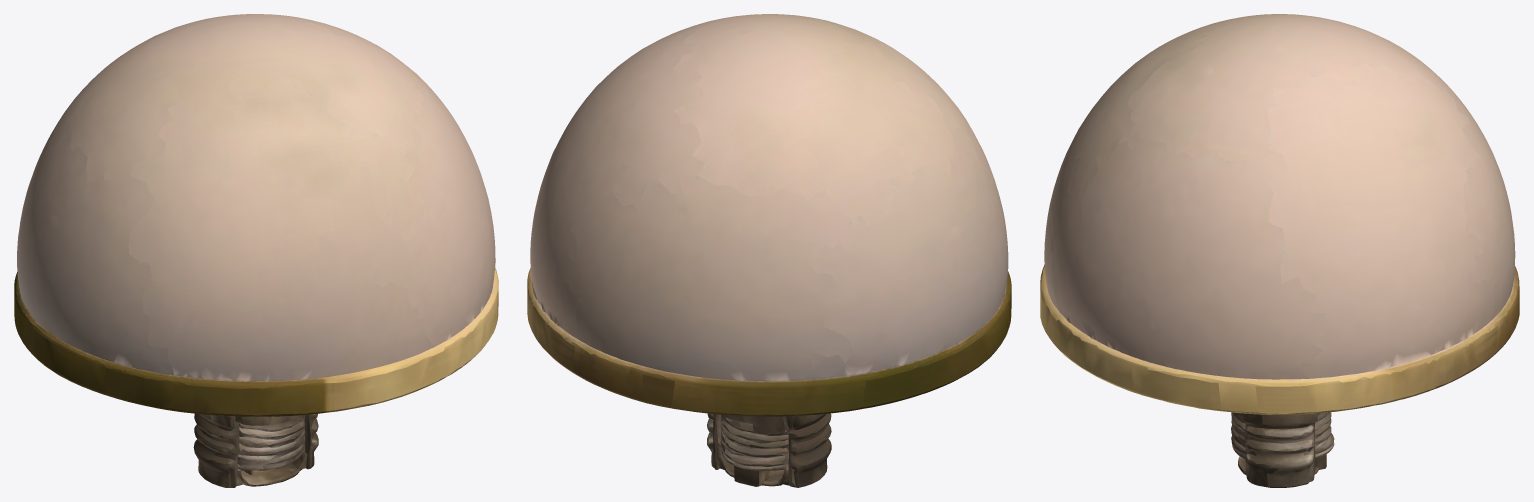
3 renders of one model, left to right at view 1: azimuth 30°, elevation 25°; view 2: azimuth 150°, elevation 25°; view 3: azimuth 270°, elevation 25°, orthographic.
Parts seen in each view (by area): view 1: geometry_0; view 2: geometry_0; view 3: geometry_0.
Boxes of the visible parts, x1,y1,x2,y2 form: geometry_0: (14,14,498,487); geometry_0: (527,14,1011,487); geometry_0: (1040,14,1519,487).
Bounding box in the file's own units: 0.18 × 0.18 × 0.1786.
Materials: 1 (1 with a texture image).
